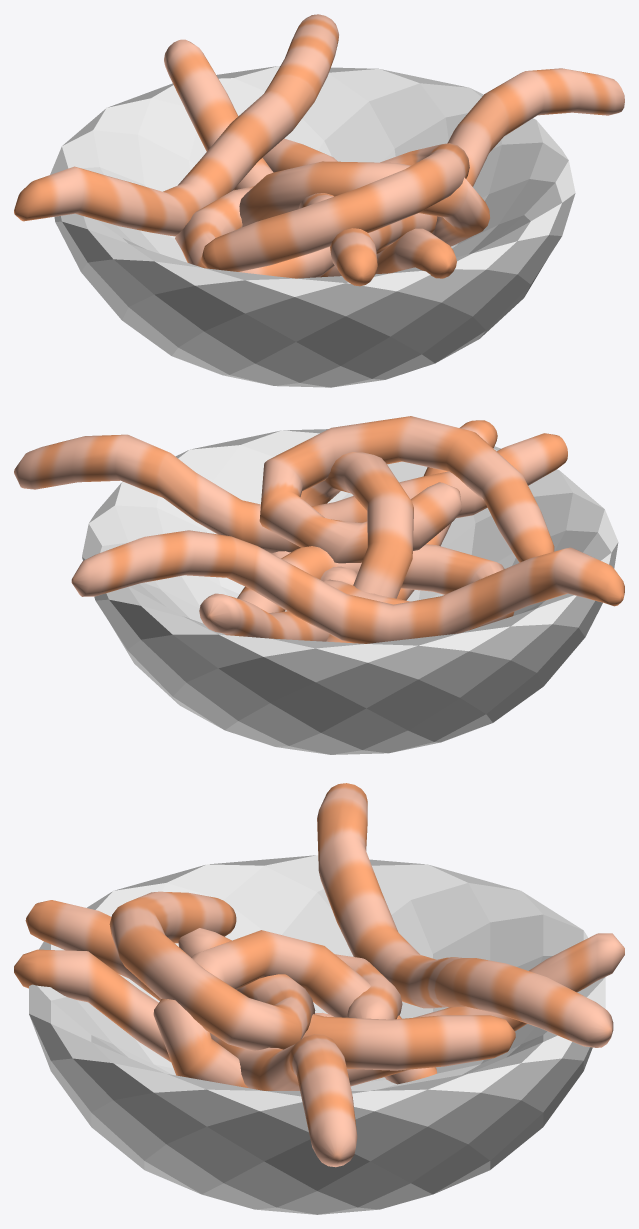
File: essen.fbx
The picture shows the model from 3 angles, top to bottom: view 1: azimuth 30°, elevation 25°; view 2: azimuth 150°, elevation 25°; view 3: azimuth 270°, elevation 25°; orthographic projection. The views are drawn at different scales.
Parts seen in each view (by area): view 1: Sphere, Cylinder.004; view 2: Cylinder.004, Sphere; view 3: Sphere, Cylinder.004.
Boxes of the visible parts, box(x1,y1,x2,y2) form: Sphere: box(50, 66, 575, 387); Cylinder.004: box(14, 14, 624, 286); Cylinder.004: box(14, 416, 624, 643); Sphere: box(82, 429, 618, 754); Sphere: box(29, 855, 605, 1214); Cylinder.004: box(14, 783, 624, 1167).
Bounding box in the file's own units: 264 × 93.47 × 208.
2 materials, 1 textured.
